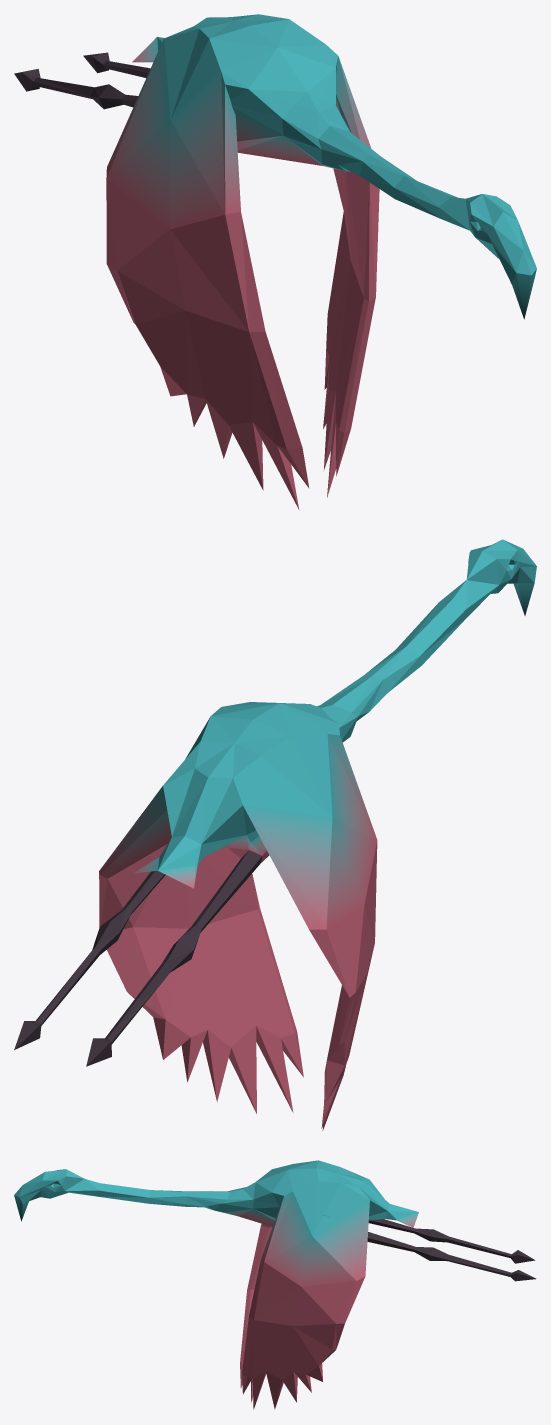
The model's file is Flamingo_pink_v3_teal_head.glb.
The picture shows the model from 3 angles, top to bottom: view 1: azimuth 30°, elevation 25°; view 2: azimuth 150°, elevation 25°; view 3: azimuth 270°, elevation 25°; orthographic projection. The views are drawn at different scales.
Bounding box in the file's own units: 52.2 × 89.1 × 177.
